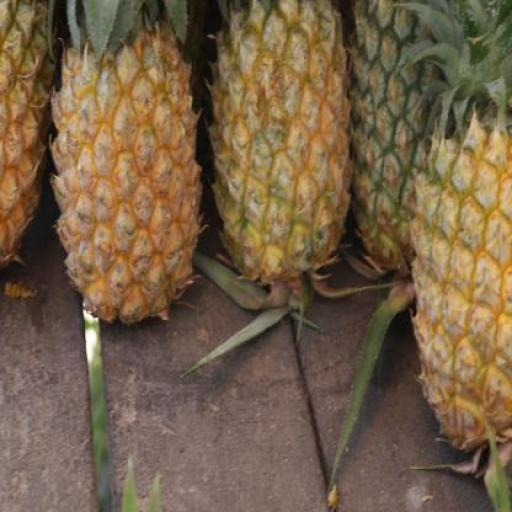------------------------------: (210, 0, 359, 271)
Pineapple - v8 v1: (55, 25, 205, 325), (413, 138, 512, 454)
